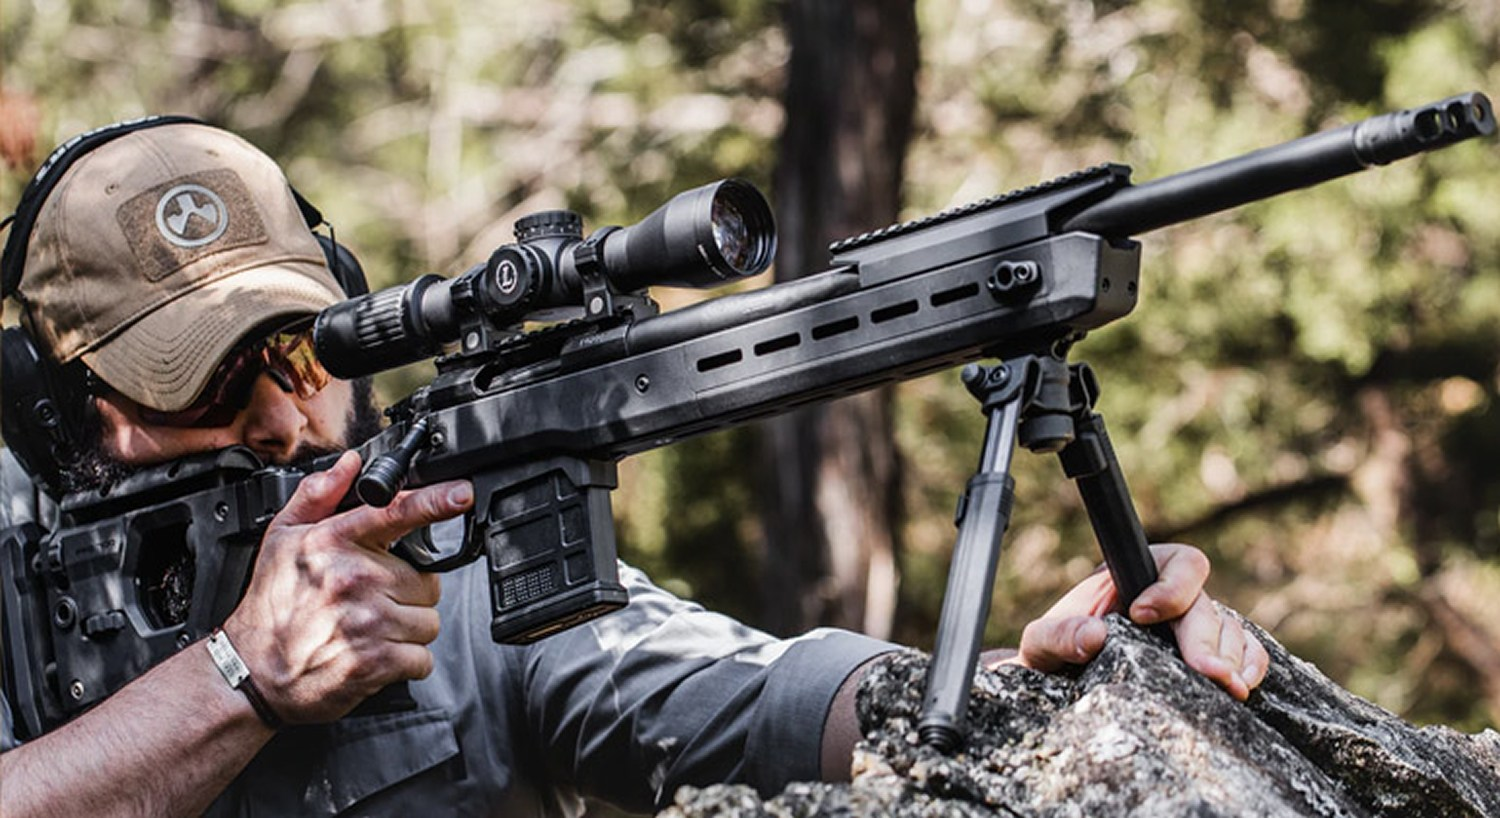Arma Real: (1, 89, 1497, 724)
